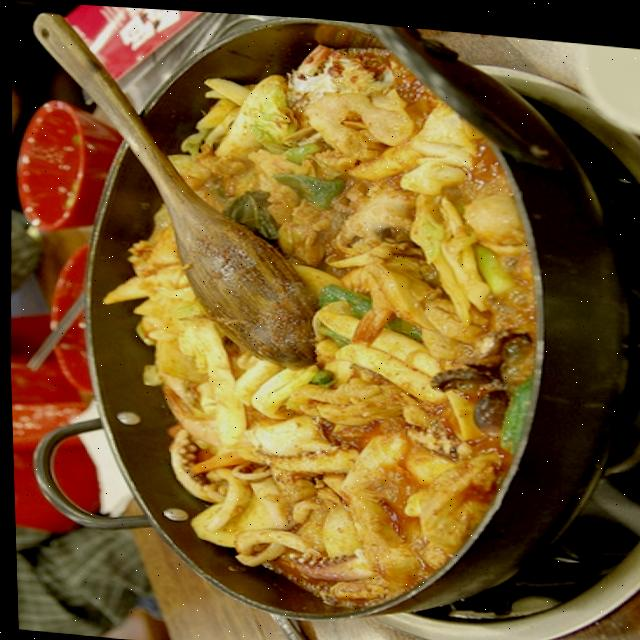鸡肉料理 含炸鸡: (64, 3, 619, 633)
